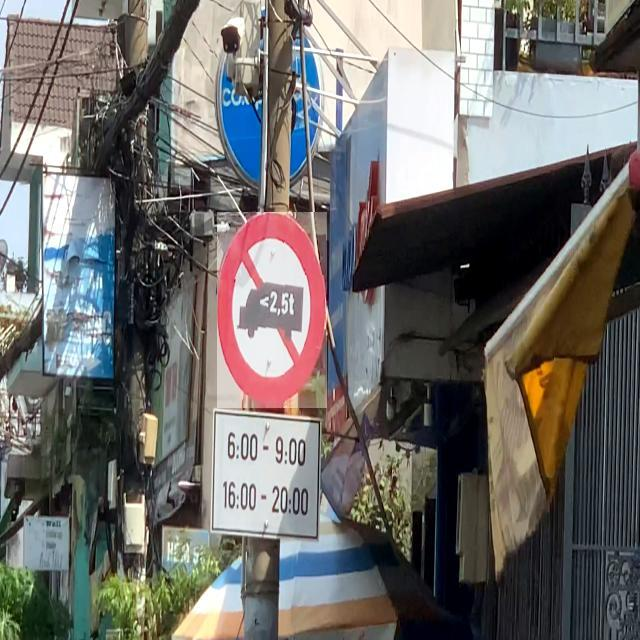P-106b: (218, 213, 328, 409)
